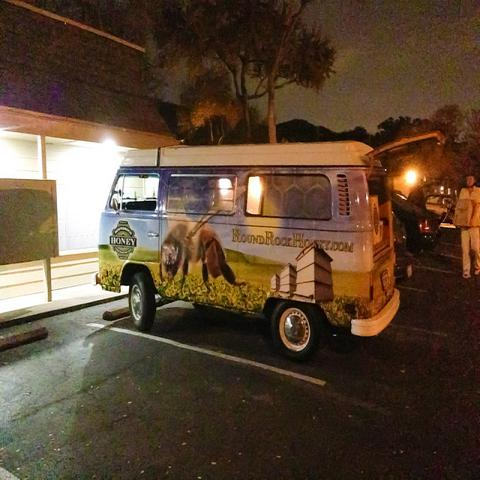bus: (94, 130, 446, 362)
car: (391, 189, 440, 252), (391, 209, 412, 282), (424, 194, 457, 219)
